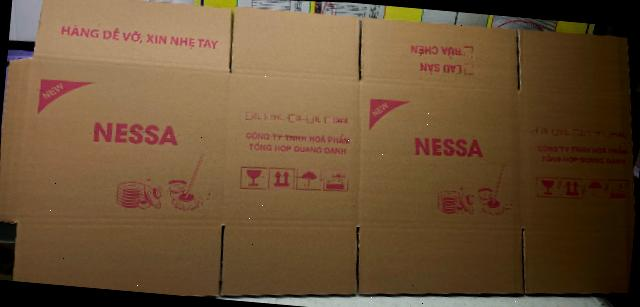box: (0, 0, 635, 295)
